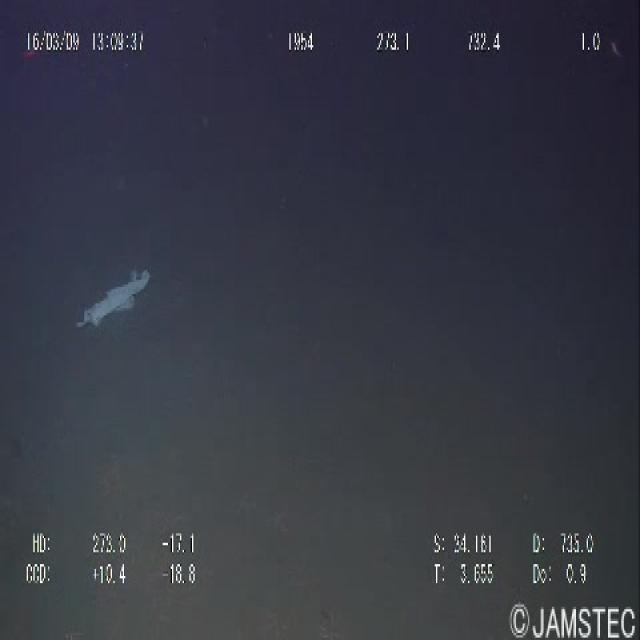plastic: (66, 254, 158, 346)
